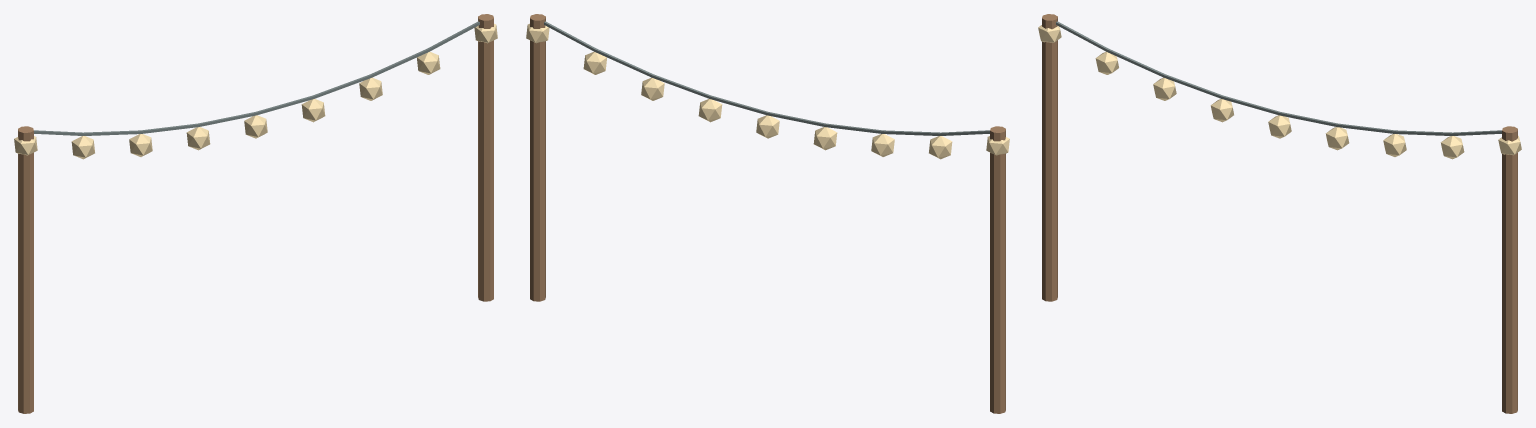
Rendered from camp-string-lights.glb.
3 renders of one model, left to right at view 1: azimuth 30°, elevation 25°; view 2: azimuth 150°, elevation 25°; view 3: azimuth 330°, elevation 25°, orthographic.
Parts seen in each view (by area): view 1: Festoon post, Festoon post.001, Festoon bulb.004, Festoon bulb.002, Festoon bulb.003, Festoon bulb.001, Festoon bulb.006, Festoon bulb.005; view 2: Festoon post, Festoon post.001, Festoon bulb.004, Festoon bulb.002, Festoon bulb.003, Festoon bulb.001, Festoon bulb.006, Festoon bulb.005; view 3: Festoon post.001, Festoon post.
Boxes of the visible parts, bbox=[...] form: Festoon post: bbox=[18, 126, 33, 413]; Festoon post.001: bbox=[478, 14, 493, 301]; Festoon bulb.004: bbox=[244, 115, 267, 138]; Festoon bulb.002: bbox=[129, 134, 152, 156]; Festoon bulb.003: bbox=[186, 127, 210, 150]; Festoon bulb.001: bbox=[71, 136, 94, 159]; Festoon bulb.006: bbox=[359, 77, 382, 100]; Festoon bulb.005: bbox=[301, 99, 325, 122]; Festoon post: bbox=[990, 126, 1005, 413]; Festoon post.001: bbox=[530, 14, 545, 301]; Festoon bulb.004: bbox=[756, 115, 779, 138]; Festoon bulb.002: bbox=[871, 134, 894, 156]; Festoon bulb.003: bbox=[813, 127, 837, 150]; Festoon bulb.001: bbox=[929, 136, 952, 159]; Festoon bulb.006: bbox=[641, 77, 664, 100]; Festoon bulb.005: bbox=[698, 99, 722, 122]; Festoon post.001: bbox=[1502, 126, 1517, 413]; Festoon post: bbox=[1042, 14, 1057, 301].
Size of the model in its own units: 5.01 by 2.8 by 0.2042.
